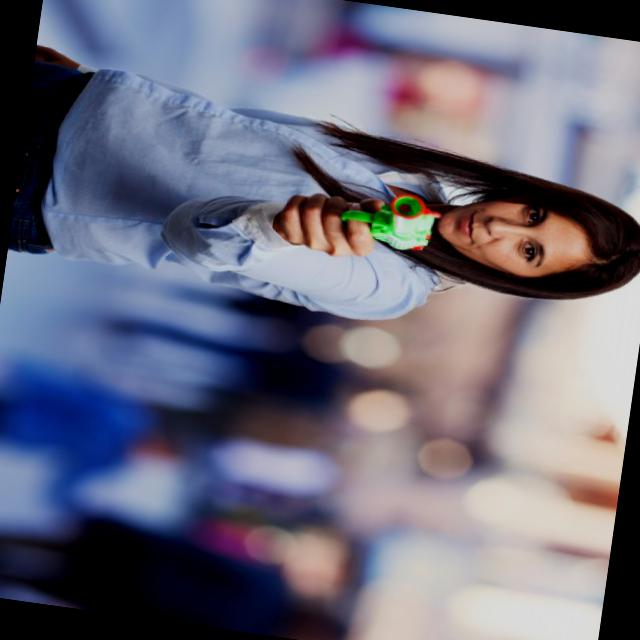handgun: (332, 184, 442, 258)
